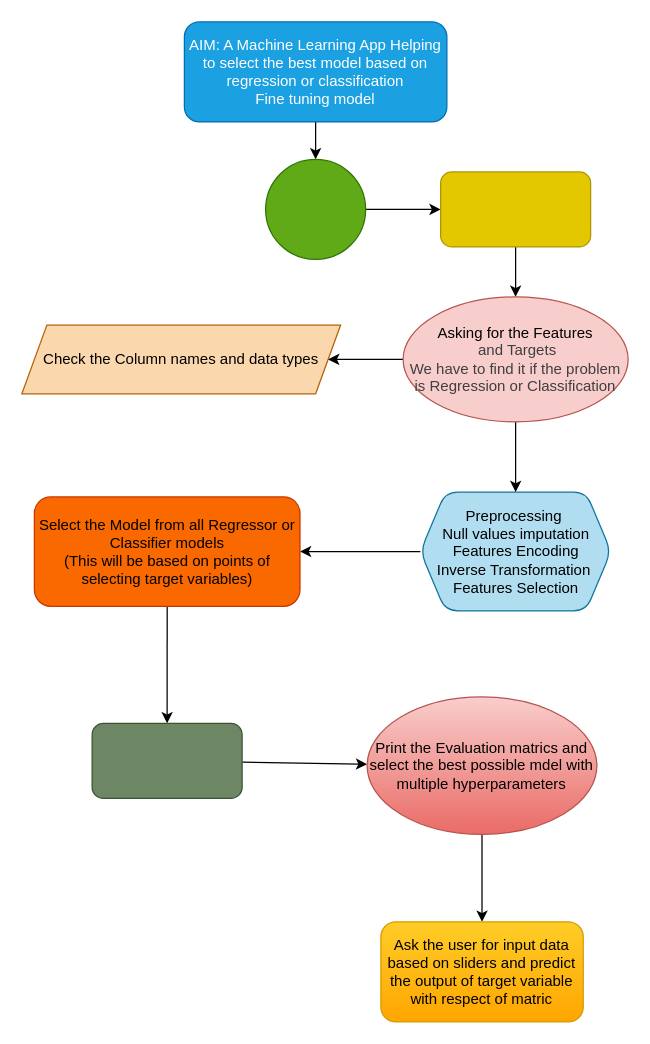
Some shapes in this 650 by 1044 pixel diagram are drawn without their labels. The centre of each missing label's shape, as x and y in pixels:
"Add the evalatuin matrics based on problem" belongs at pixel 166 760.
"Exmple data option button" belongs at pixel 515 209.
"Load or Upload the data" belongs at pixel 315 208.
